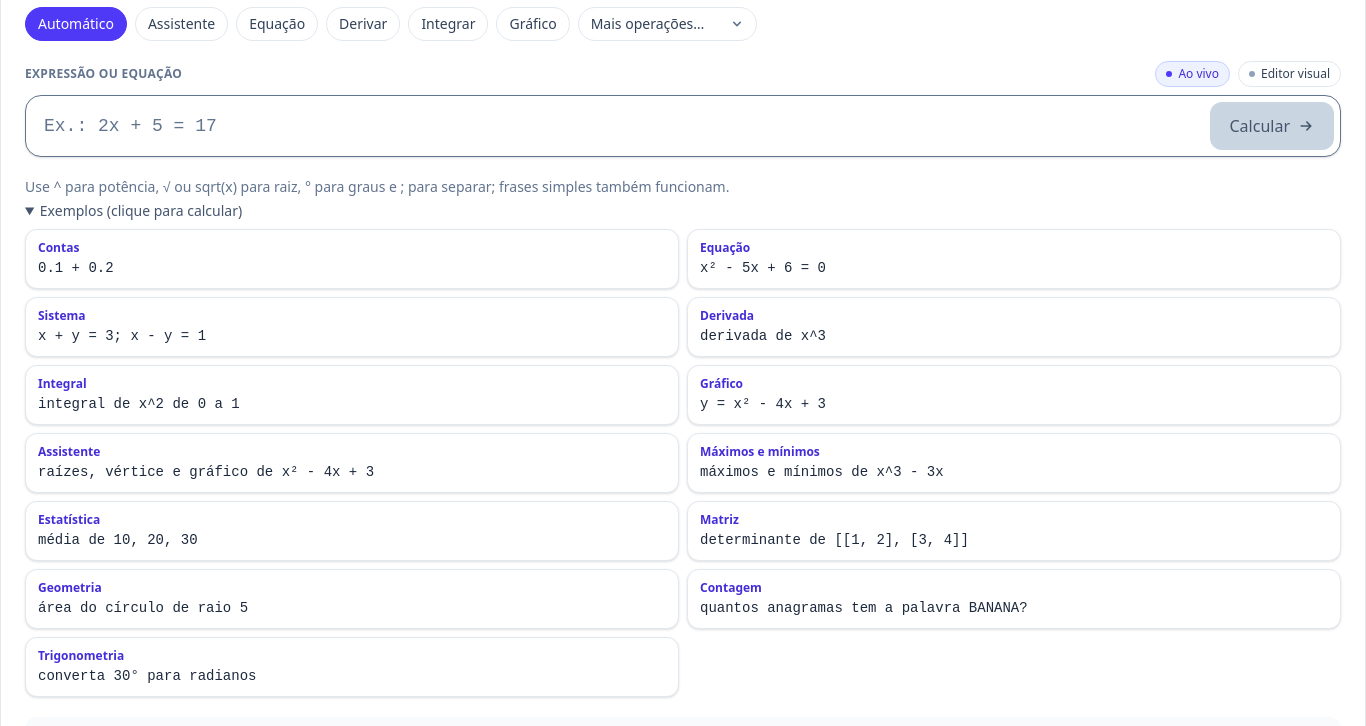
Test: Calculator › detects the operation by default, sending no intent
Type "2x + 5 = 17" into the field labelled "Expressão ou equação" at (617, 126), box x1=32 y1=102 x2=1202 y2=150
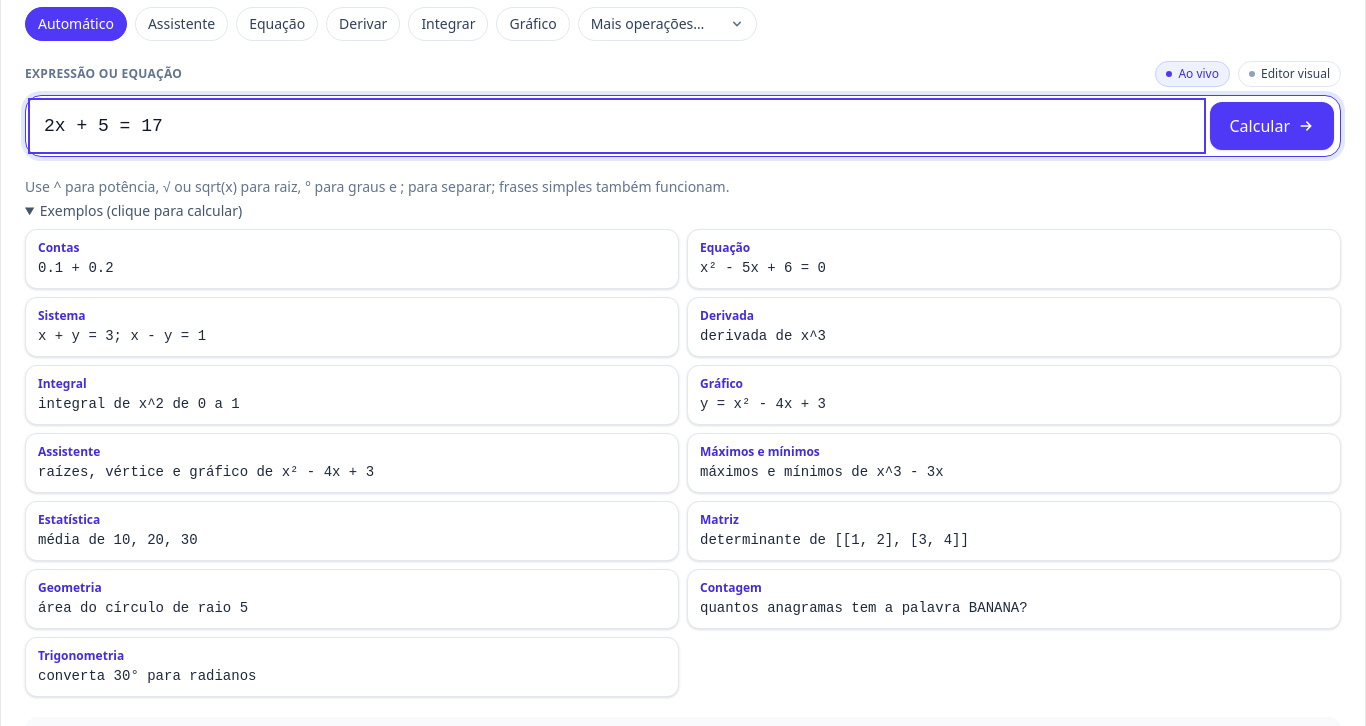
Click the button "Calcular" at (1272, 126), box x1=1210 y1=102 x2=1334 y2=150
(page scrolled)
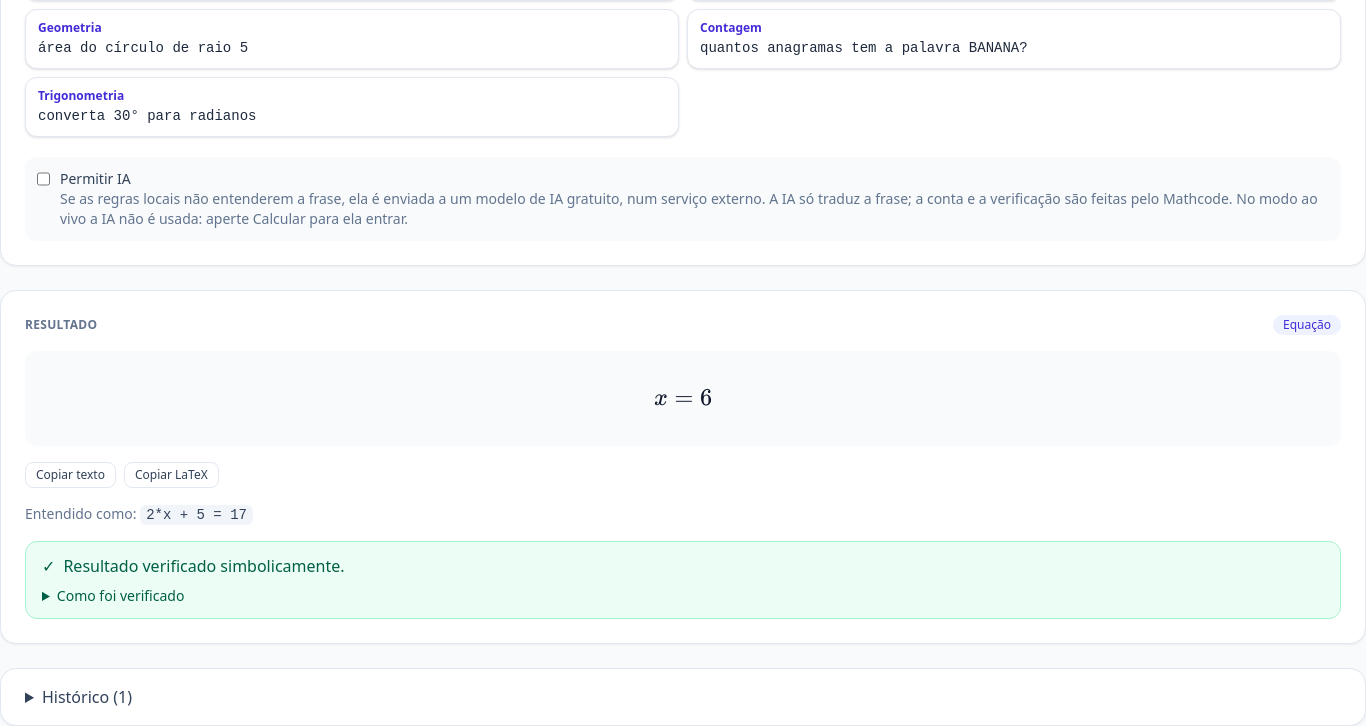
Expected: the element "Resultado" is shown, x1=0 y1=290 x2=1365 y2=644
